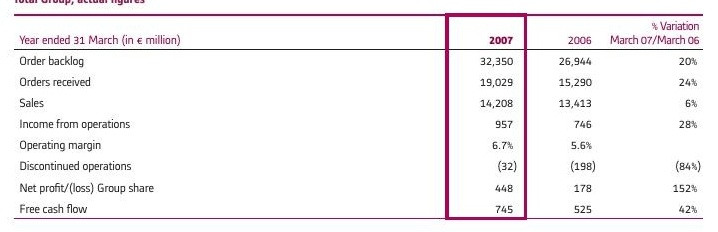table: (0, 0, 718, 232)
